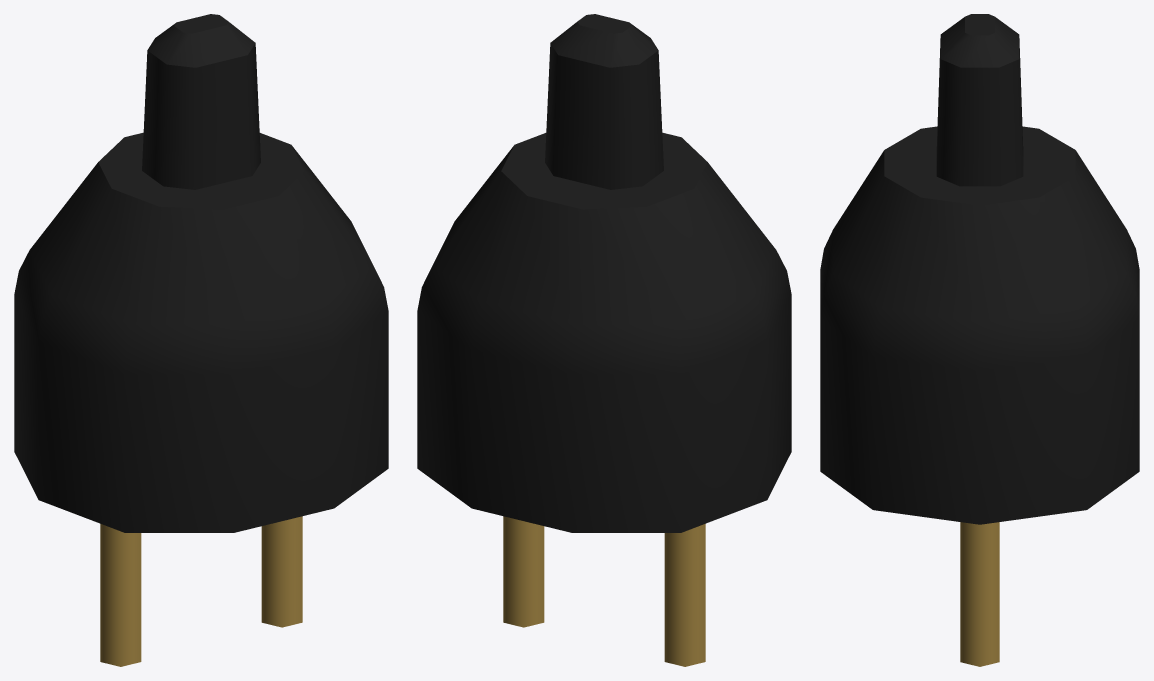
The model's file is wall_socket_plug.fbx.
The picture shows the model from 3 angles, left to right: view 1: azimuth 30°, elevation 25°; view 2: azimuth 150°, elevation 25°; view 3: azimuth 270°, elevation 25°; orthographic projection. The views are drawn at different scales.
Parts seen in each view (by area): view 1: wall_socket_plug; view 2: wall_socket_plug; view 3: wall_socket_plug.
Boxes of the visible parts, left/top/right/bottom form: wall_socket_plug: left=14, top=14, right=388, bottom=666; wall_socket_plug: left=417, top=14, right=791, bottom=666; wall_socket_plug: left=820, top=14, right=1139, bottom=666.
Bounding box in the file's own units: 0.0384 × 0.0336 × 0.0691.
